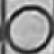no answer: (5, 2, 54, 54)
